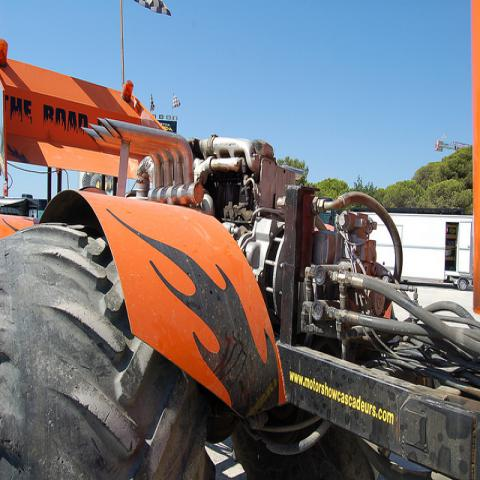truck: (0, 42, 479, 475), (359, 209, 474, 290)
